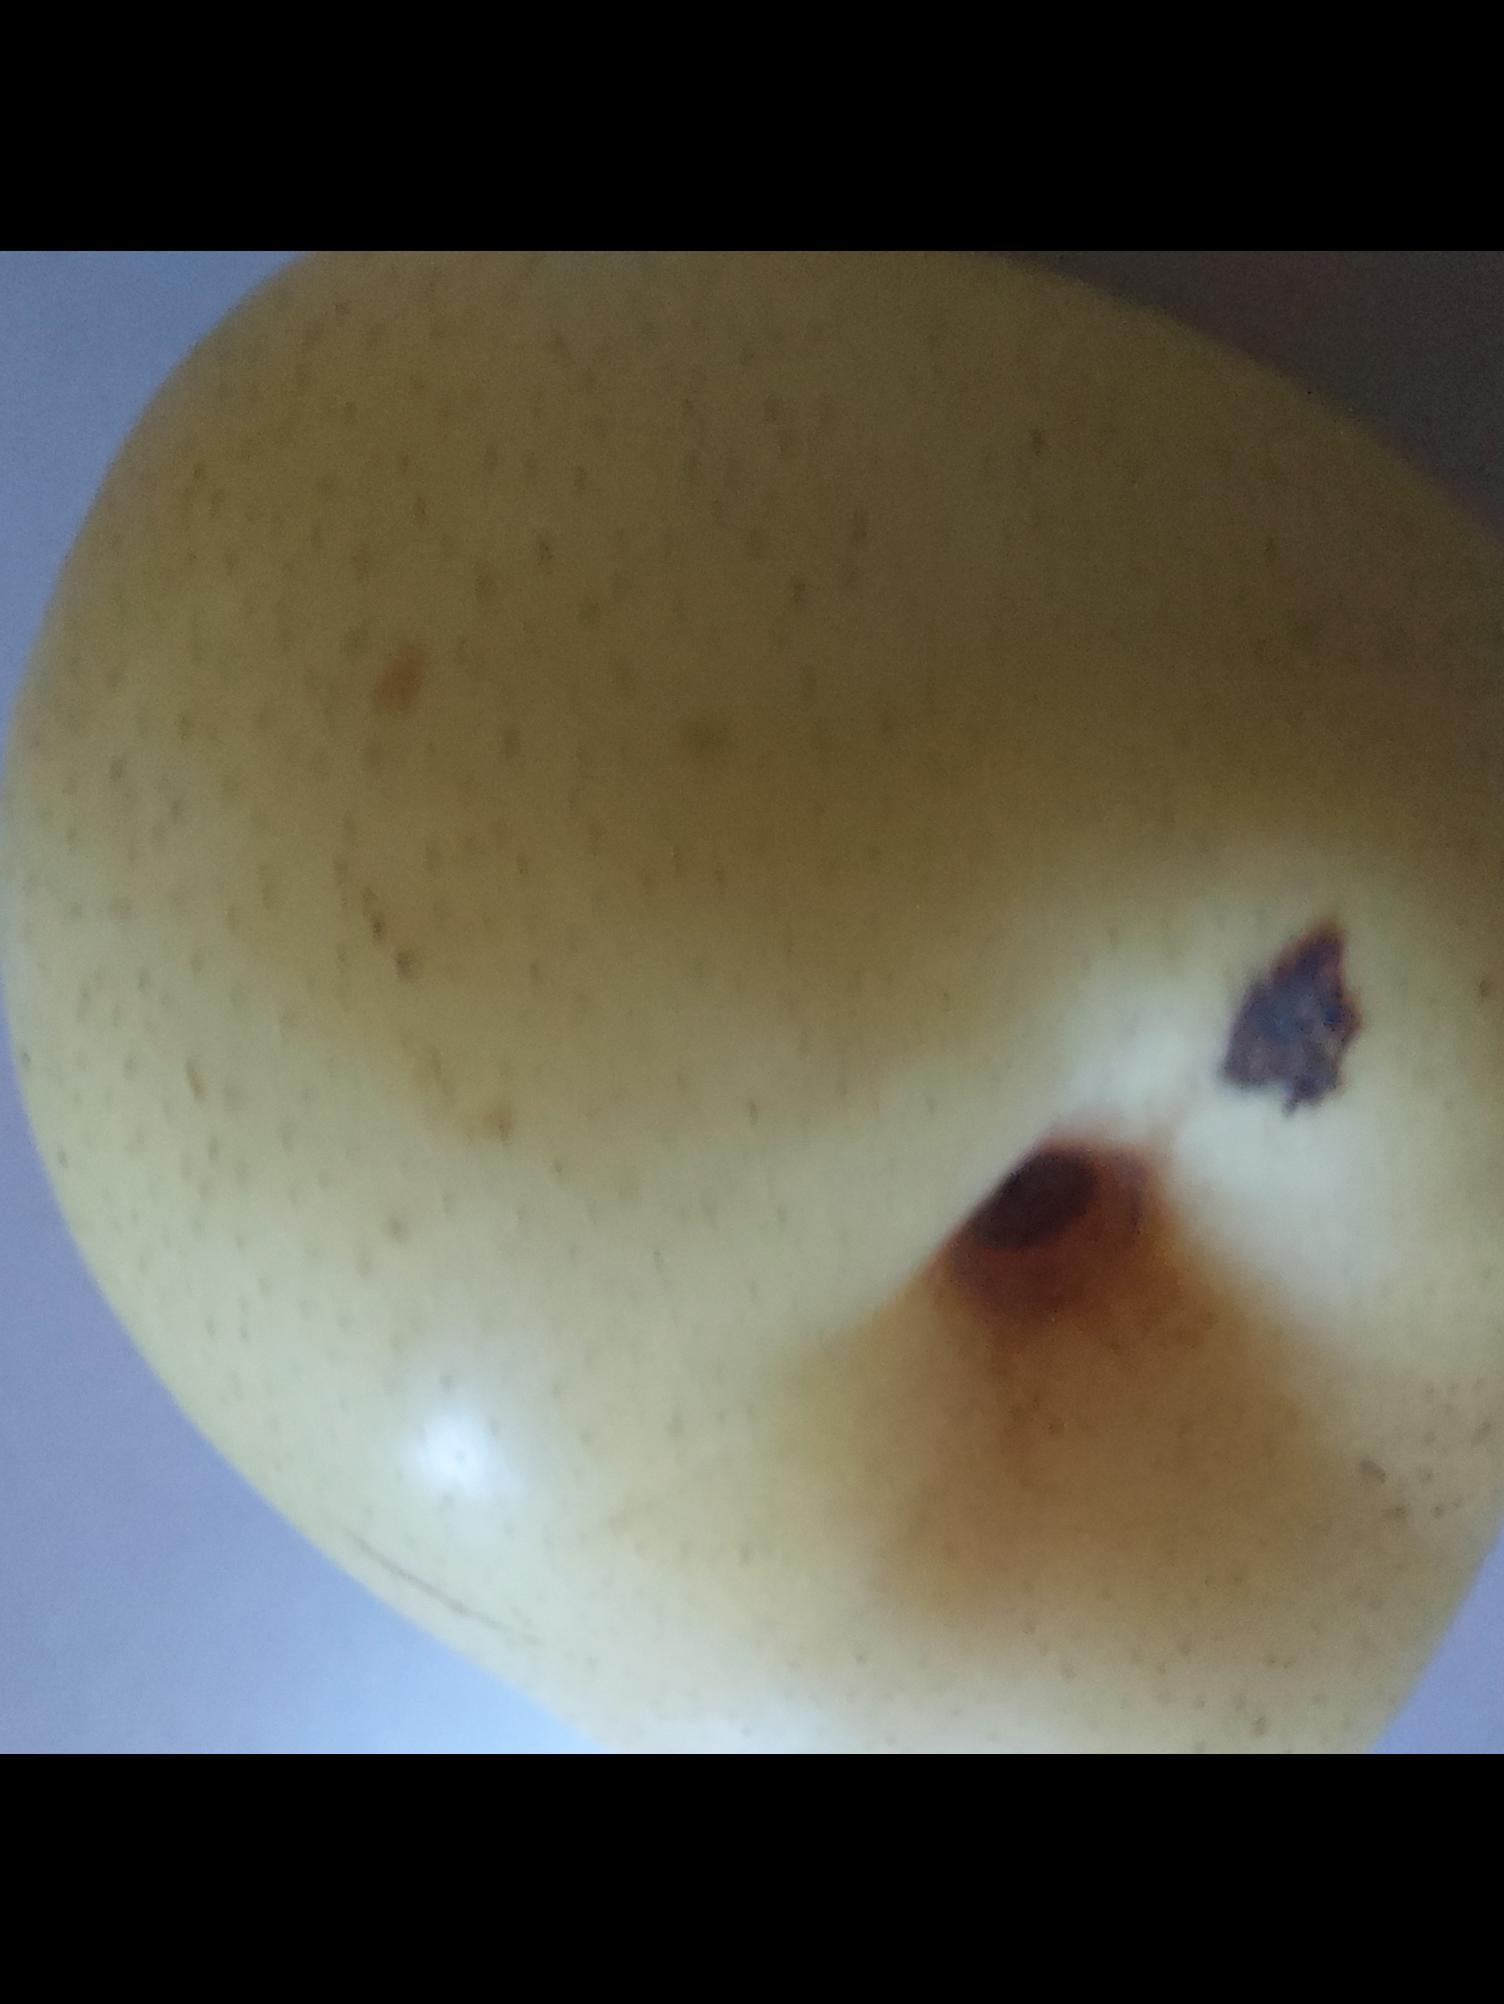Good Pear: (0, 250, 1504, 1754)
